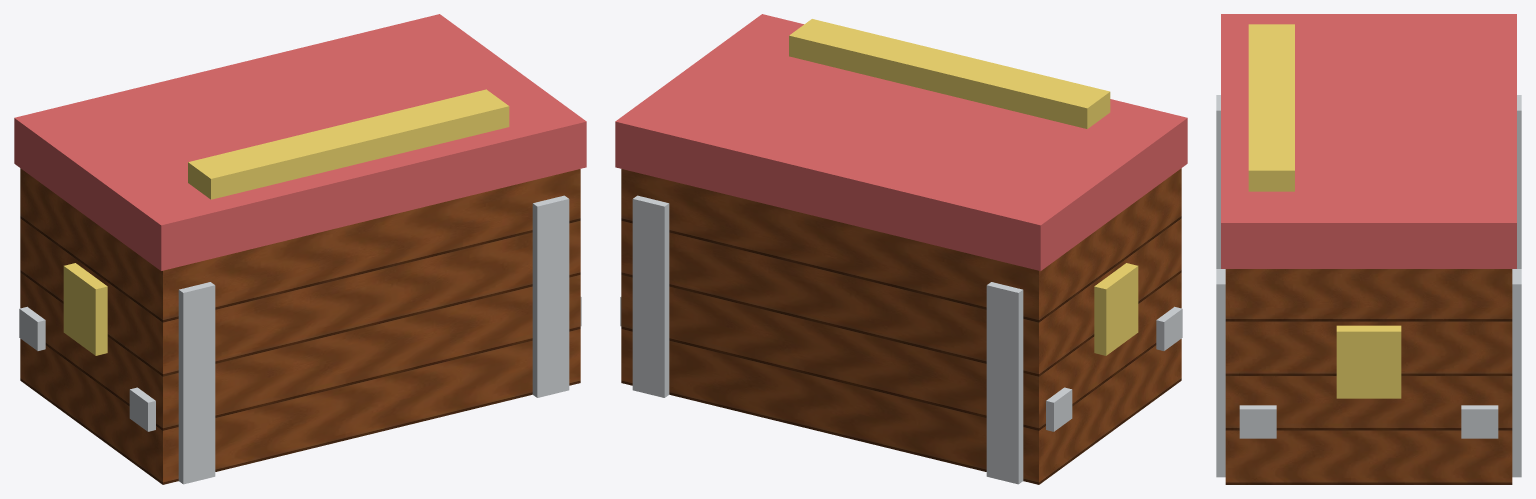
File: travelling-circus-and-big-top-travel-trunk-dfc62662__36263.glb
3 renders of one model, left to right at view 1: azimuth 30°, elevation 25°; view 2: azimuth 150°, elevation 25°; view 3: azimuth 270°, elevation 25°, orthographic.
Parts seen in each view (by area): view 1: travel-trunk-timber, lid/stripe, travel-trunk-steel, lid/gold, travel-trunk-gold; view 2: travel-trunk-timber, lid/stripe, travel-trunk-steel, lid/gold, travel-trunk-gold; view 3: lid/stripe, travel-trunk-timber, travel-trunk-steel, lid/gold, travel-trunk-gold.
Part boxes in pixels (x1=…): travel-trunk-timber: x1=20, y1=168, x2=580, y2=484; lid/stripe: x1=14, y1=14, x2=586, y2=270; travel-trunk-steel: x1=19, y1=195, x2=581, y2=484; lid/gold: x1=188, y1=89, x2=509, y2=199; travel-trunk-gold: x1=63, y1=263, x2=107, y2=355; travel-trunk-timber: x1=621, y1=168, x2=1181, y2=484; lid/stripe: x1=615, y1=14, x2=1187, y2=270; travel-trunk-steel: x1=620, y1=195, x2=1182, y2=484; lid/gold: x1=789, y1=19, x2=1110, y2=128; travel-trunk-gold: x1=1094, y1=263, x2=1138, y2=355; lid/stripe: x1=1221, y1=14, x2=1516, y2=268; travel-trunk-timber: x1=1225, y1=269, x2=1512, y2=484; travel-trunk-steel: x1=1216, y1=95, x2=1521, y2=477; lid/gold: x1=1248, y1=24, x2=1294, y2=191; travel-trunk-gold: x1=1336, y1=325, x2=1401, y2=398.
Bounding box in the file's own units: 1.11 × 0.68 × 0.66.
Materials: 4 (1 with a texture image).
